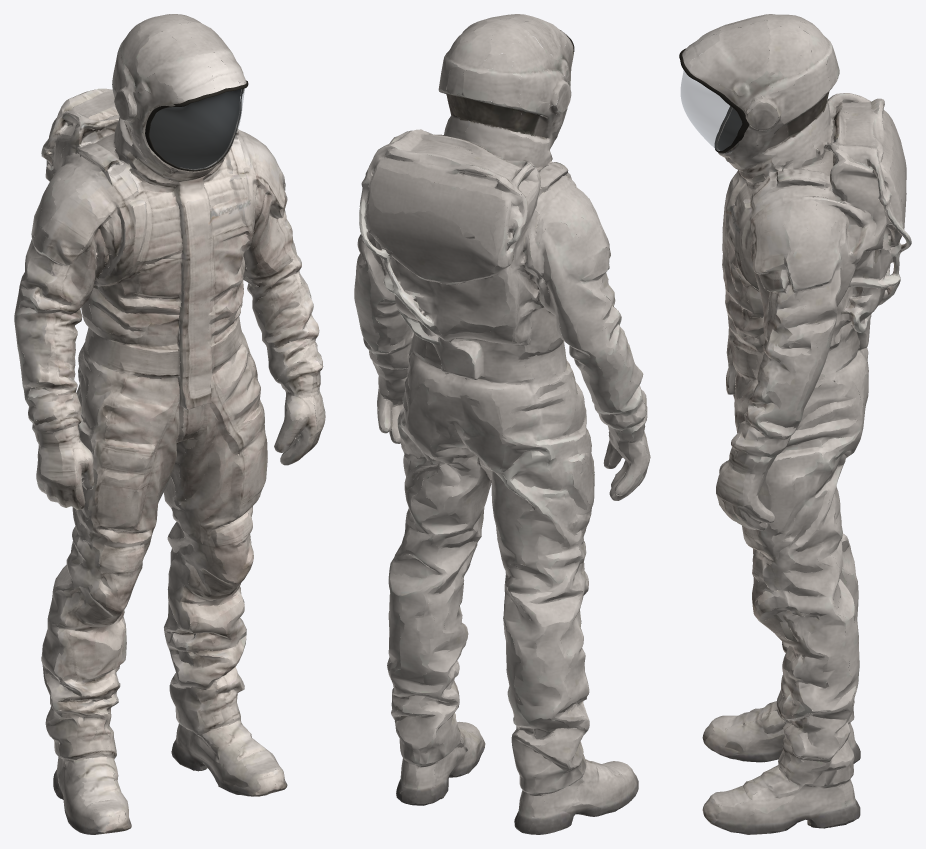
File: integrated-suit.glb
3 renders of one model, left to right at view 1: azimuth 30°, elevation 25°; view 2: azimuth 150°, elevation 25°; view 3: azimuth 270°, elevation 25°, orthographic.
Parts seen in each view (by area): view 1: Areographic | original fabric shell and field suit, Visor | independent transparent lens, Helmet | dark padded interior cup, Helmet | molded aperture gasket; view 2: Areographic | original fabric shell and field suit; view 3: Areographic | original fabric shell and field suit, Visor | independent transparent lens, Helmet | molded aperture gasket, Helmet | dark padded interior cup.
Boxes of the visible parts, left/top/right/bottom form: Areographic | original fabric shell and field suit: left=14, top=14, right=325, bottom=834; Visor | independent transparent lens: left=149, top=88, right=244, bottom=169; Helmet | dark padded interior cup: left=135, top=73, right=241, bottom=169; Helmet | molded aperture gasket: left=145, top=80, right=248, bottom=171; Areographic | original fabric shell and field suit: left=354, top=14, right=650, bottom=834; Areographic | original fabric shell and field suit: left=682, top=14, right=911, bottom=834; Visor | independent transparent lens: left=681, top=70, right=741, bottom=150; Helmet | molded aperture gasket: left=679, top=48, right=749, bottom=153; Helmet | dark padded interior cup: left=718, top=50, right=778, bottom=150.
Size of the model in its own units: 0.7262 by 1.9 by 0.5175.
4 materials, 1 textured.
